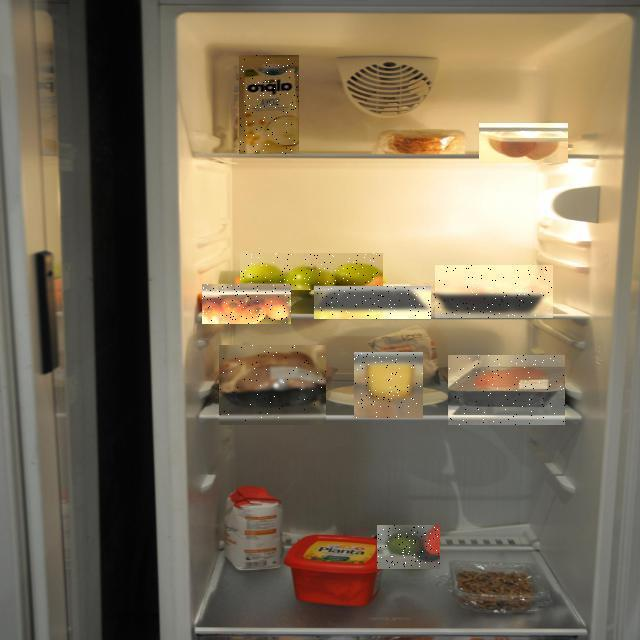Apple: (240, 253, 383, 290)
Carrot: (202, 284, 291, 324)
Cheese: (354, 352, 423, 418)
Eggs: (479, 123, 568, 163)
Lime: (377, 525, 440, 569)
Meat: (219, 345, 326, 425), (448, 355, 565, 425), (435, 265, 553, 318), (314, 286, 431, 319)
Milk: (239, 55, 299, 154)
